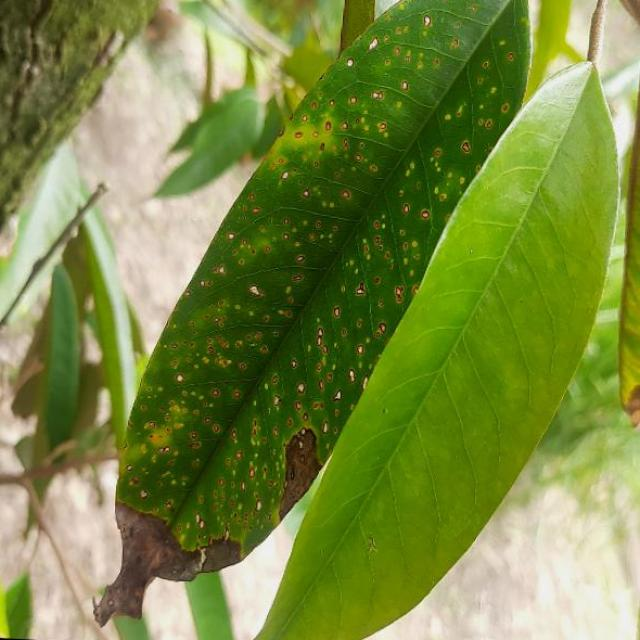Leaf Spot: (78, 0, 541, 640)
No Disease: (234, 44, 626, 640)
